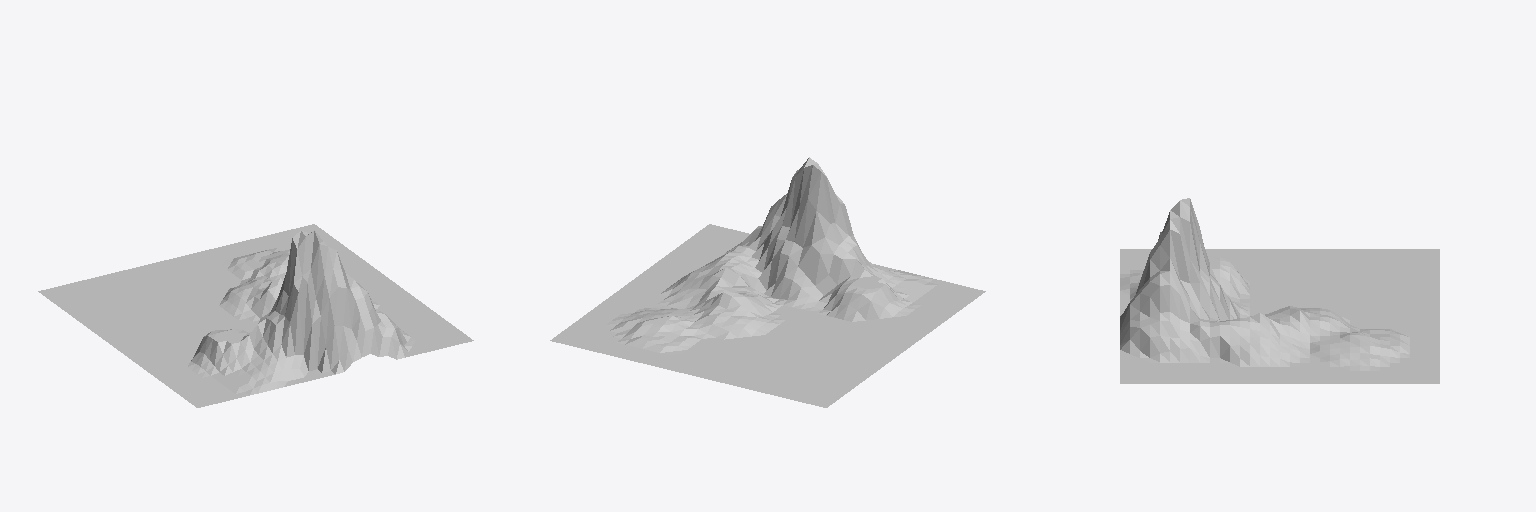
The model's file is Terrain.obj.
The picture shows the model from 3 angles: view 1: azimuth 30°, elevation 25°; view 2: azimuth 150°, elevation 25°; view 3: azimuth 270°, elevation 25°; orthographic projection.
Size of the model in its own units: 1 by 0.4152 by 1.